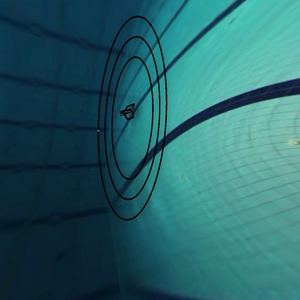circle: (68, 10, 194, 234)
submarine: (118, 101, 143, 128)
